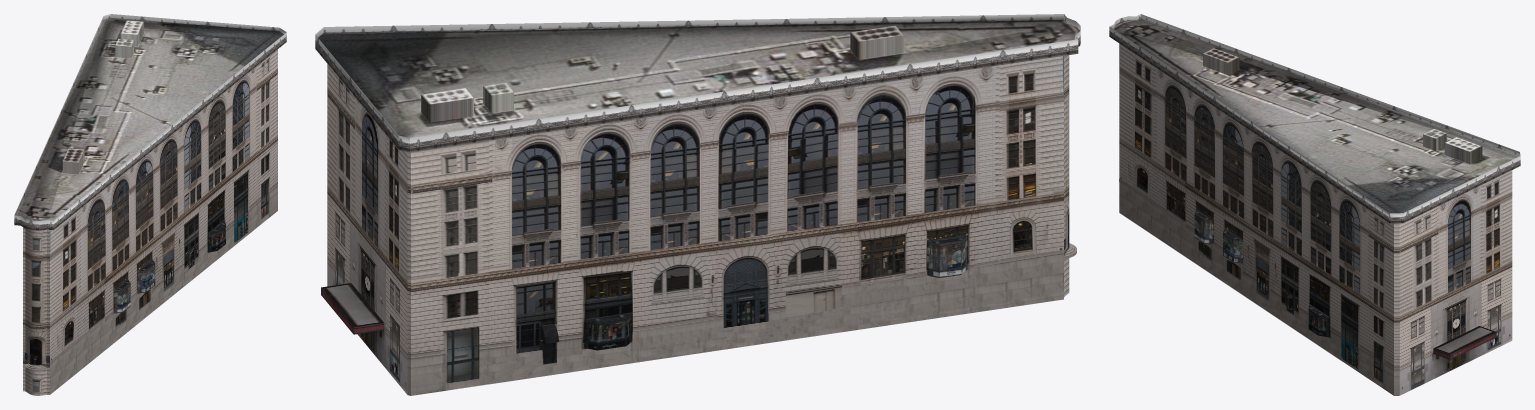
File: TIMES-SQUARE-BUILDING.fbx
3 views of the same model, side by side, from view 1: azimuth 30°, elevation 25°; view 2: azimuth 150°, elevation 25°; view 3: azimuth 270°, elevation 25° (orthographic). The views are drawn at different scales.
Visible parts, largest first — view 1: Group1; view 2: Group1; view 3: Group1.
Part boxes in pixels (<box>): Group1: <box>14,14,286,395</box>; Group1: <box>315,14,1080,395</box>; Group1: <box>1109,14,1520,395</box>.
Size of the model in its own units: 2582 by 1173 by 2249.
